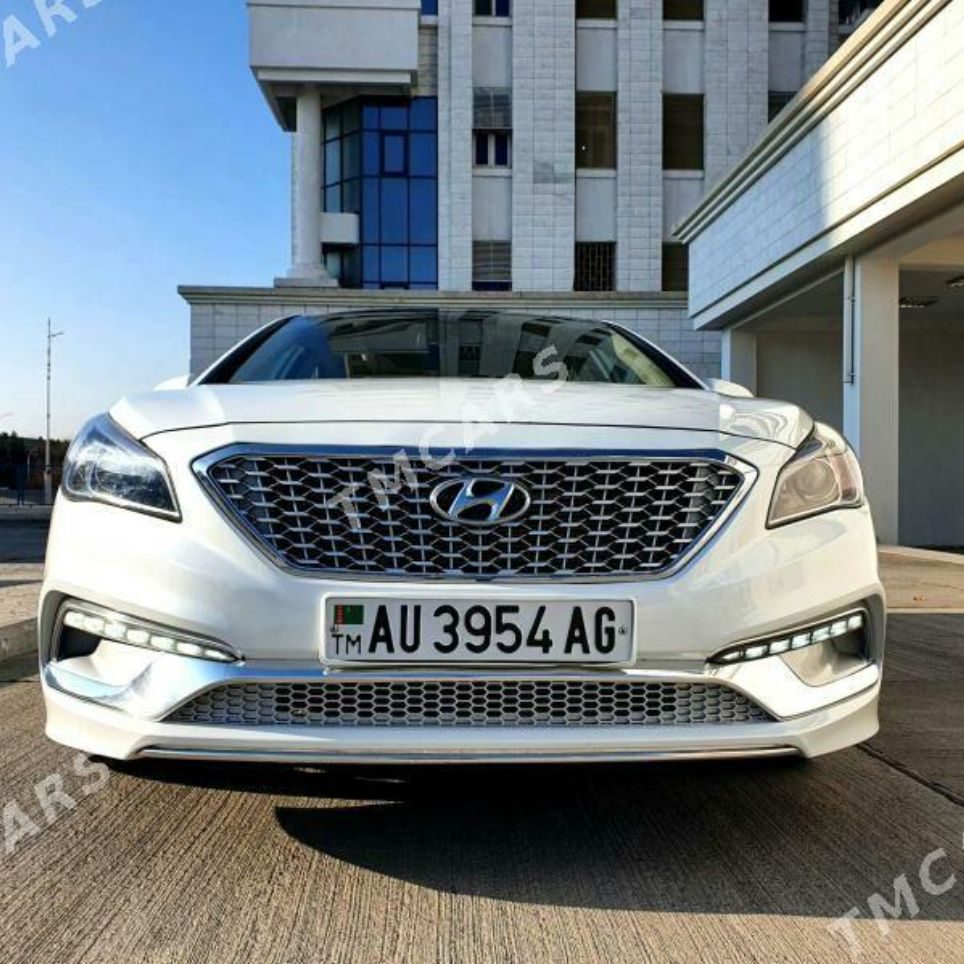license plate: (323, 596, 635, 668)
truck: (44, 287, 891, 774)
